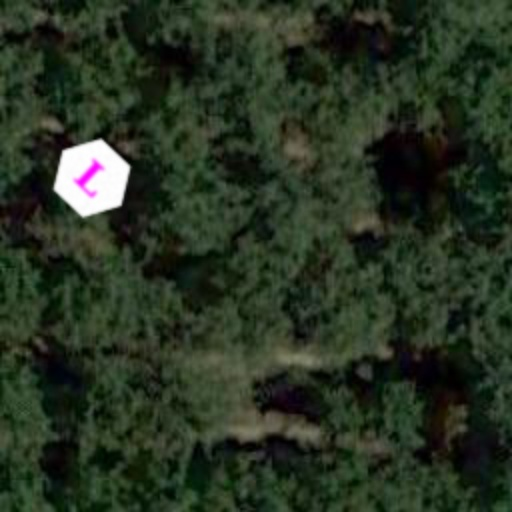hexagon: (34, 120, 150, 236)
